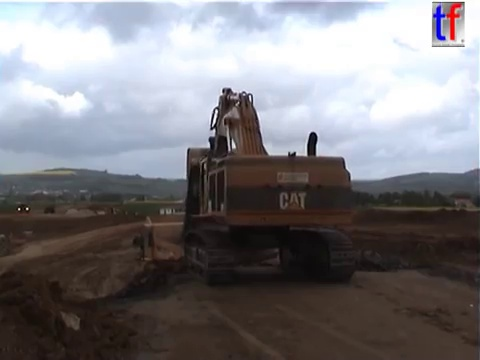excavator: (178, 84, 359, 285)
truck: (130, 214, 281, 291), (15, 201, 33, 216), (41, 201, 58, 216)
